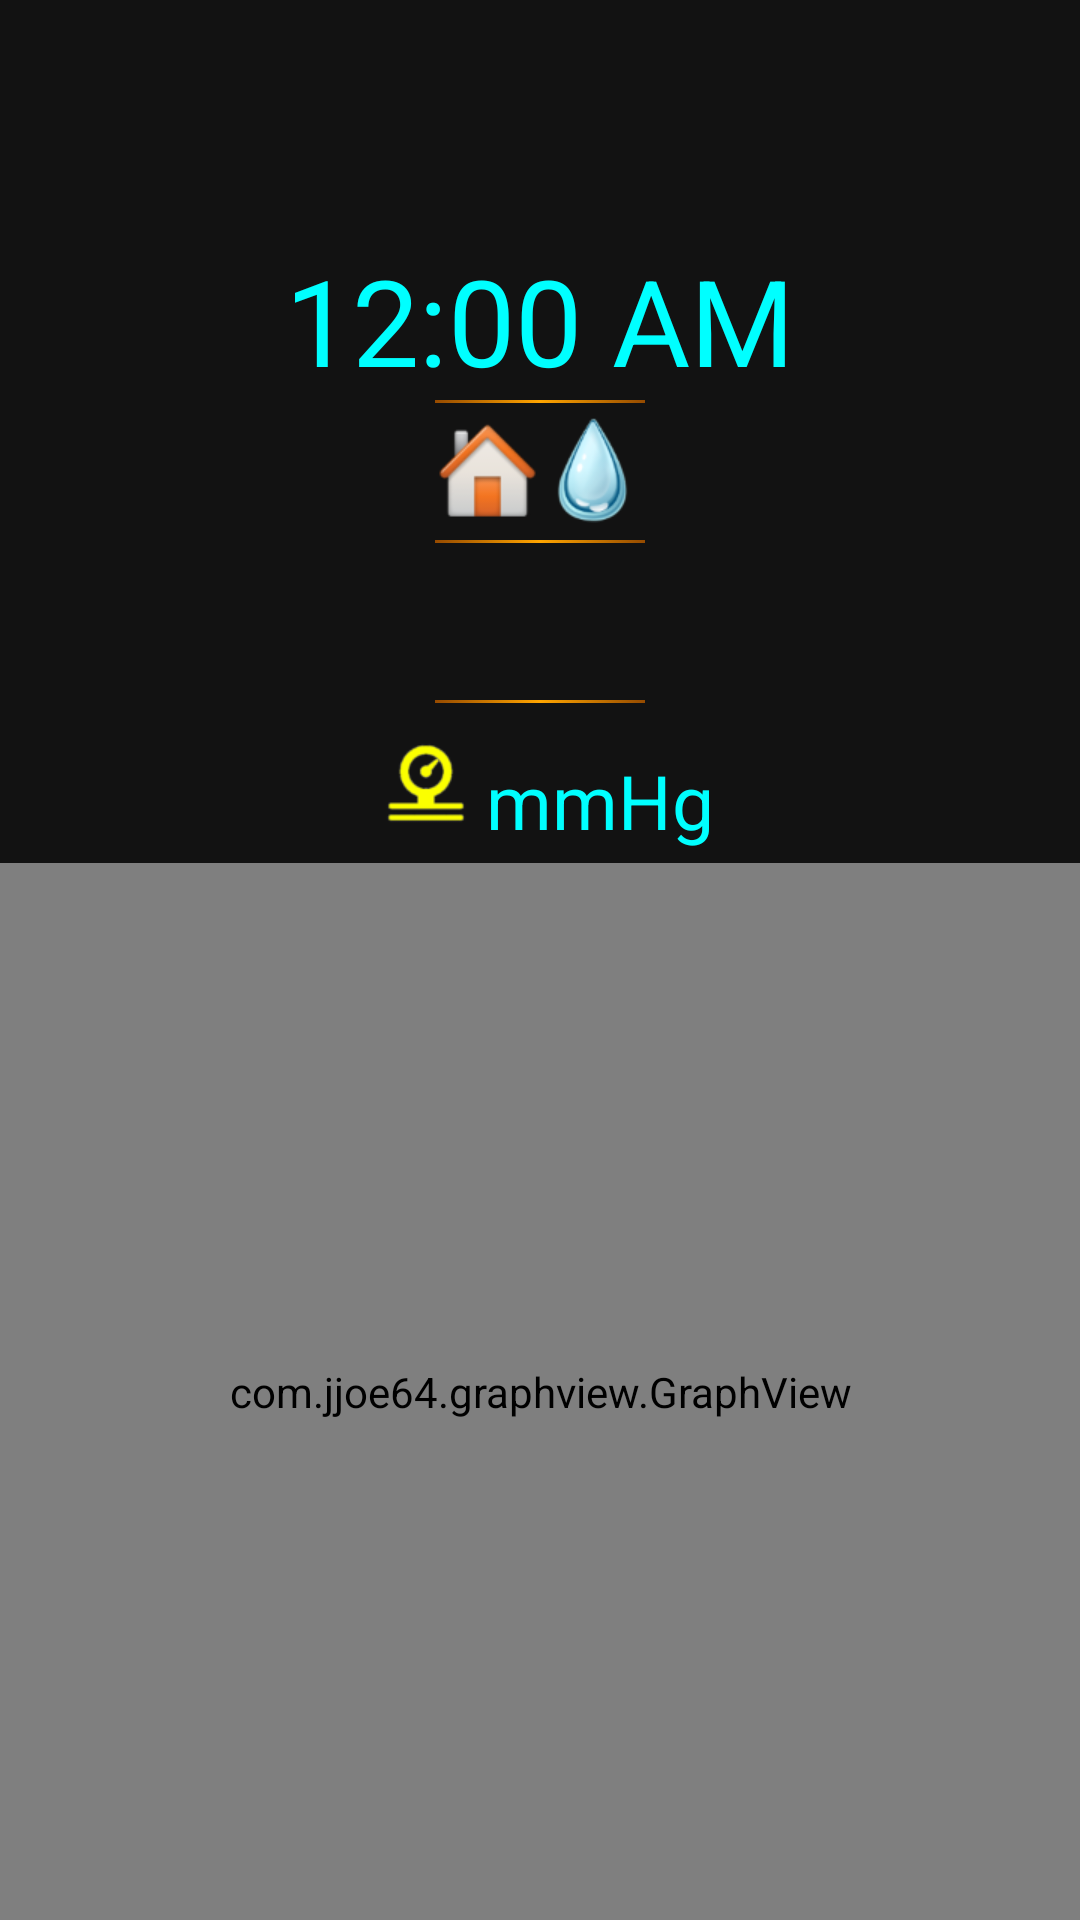

Named icons in this screenshot (1080w x 1920h) and their bounding boxes, {"left": x1, "top": y1, "right": x2, "bottom": y2}:
home: {"left": 439, "top": 424, "right": 536, "bottom": 517}
hum: {"left": 558, "top": 418, "right": 627, "bottom": 522}
pres: {"left": 388, "top": 745, "right": 464, "bottom": 821}
